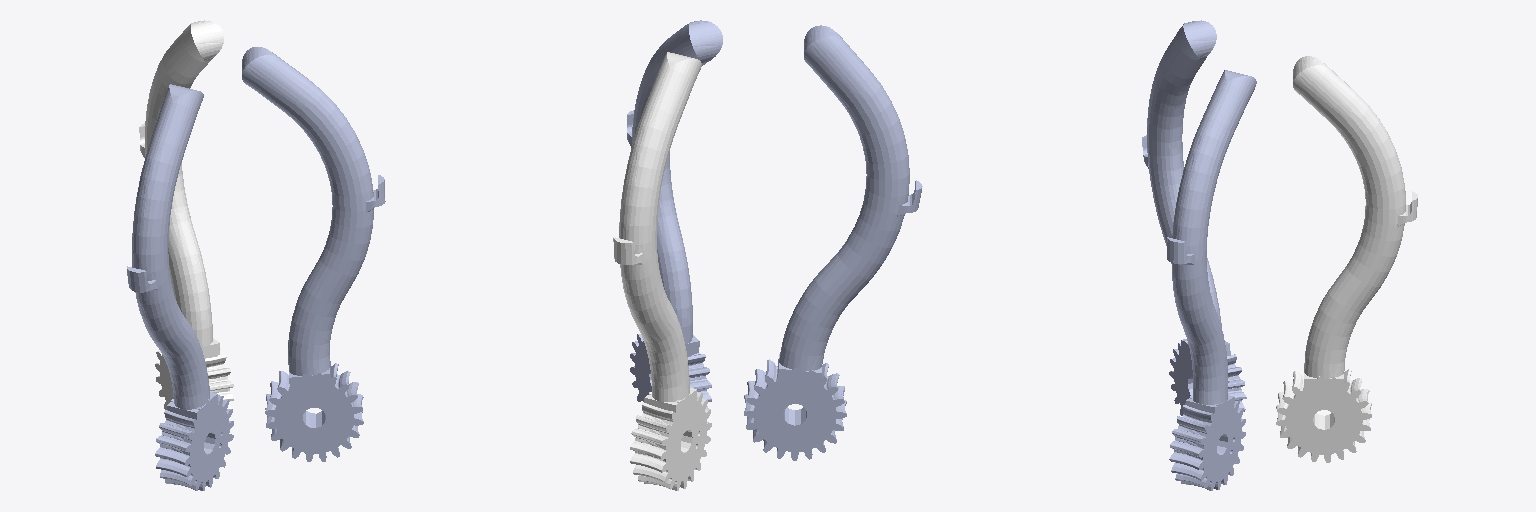
URDF robot description (gripper_v3):
<?xml version="1.0" encoding="utf-8"?>
<!-- This URDF was automatically created by SolidWorks to URDF Exporter! Originally created by [author] ([email redacted]) 
     Commit Version: 1.6.0-4-g7f85cfe  Build Version: 1.6.7995.38578
     For more information, please see http://wiki.ros.org/sw_urdf_exporter -->
<robot
  name="gripper_v3">
  <link
    name="base_link">
    <inertial>
      <origin
        xyz="-0.0069629 -9.5912E-05 -0.25679"
        rpy="0 0 0" />
      <mass
        value="0.19696" />
      <inertia
        ixx="0.00042203"
        ixy="-8.9084E-08"
        ixz="-6.9077E-07"
        iyy="0.00046629"
        iyz="3.9252E-09"
        izz="7.1565E-05" />
    </inertial>
    <visual>
      <origin
        xyz="0 0 0"
        rpy="0 0 0" />
      <geometry>
        <mesh
          filename="package://gripper_v3/meshes/base_link.STL" />
      </geometry>
      <material
        name="">
        <color
          rgba="0.52941 0.54902 0.54902 1" />
      </material>
    </visual>
    <collision>
      <origin
        xyz="0 0 0"
        rpy="0 0 0" />
      <geometry>
        <mesh
          filename="package://gripper_v3/meshes/base_link.STL" />
      </geometry>
    </collision>
  </link>
  <link
    name="finger1">
    <inertial>
      <origin
        xyz="-0.0095169 0.044769 -5.1083E-07"
        rpy="0 0 0" />
      <mass
        value="0.016537" />
      <inertia
        ixx="2.4471E-05"
        ixy="3.7782E-06"
        ixz="1.8867E-10"
        iyy="1.7729E-06"
        iyz="-5.432E-10"
        izz="2.6015E-05" />
    </inertial>
    <visual>
      <origin
        xyz="0 0 0"
        rpy="0 0 0" />
      <geometry>
        <mesh
          filename="package://gripper_v3/meshes/finger1.STL" />
      </geometry>
      <material
        name="">
        <color
          rgba="0.79216 0.81961 0.93333 1" />
      </material>
    </visual>
    <collision>
      <origin
        xyz="0 0 0"
        rpy="0 0 0" />
      <geometry>
        <mesh
          filename="package://gripper_v3/meshes/finger1.STL" />
      </geometry>
    </collision>
  </link>
  <joint
    name="finger1_joint"
    type="revolute">
    <origin
      xyz="-0.019919 -0.0115 -0.07"
      rpy="1.5708 -0.03871 0.5236" />
    <parent
      link="base_link" />
    <child
      link="finger1" />
    <axis
      xyz="0 0 -1" />
    <limit
      lower="-0.3"
      upper="0.3"
      effort="0"
      velocity="0" />
  </joint>
  <link
    name="finger2">
    <inertial>
      <origin
        xyz="-0.0155432656289887 0.0480574320644252 -7.36646345022088E-07"
        rpy="0 0 0" />
      <mass
        value="0.0299559819577234" />
      <inertia
        ixx="3.7693065874301E-05"
        ixy="1.00980563932042E-05"
        ixz="4.54534048154528E-10"
        iyy="5.4924343312225E-06"
        iyz="-8.68791635474864E-10"
        izz="4.27803208583434E-05" />
    </inertial>
    <visual>
      <origin
        xyz="0 0 0"
        rpy="0 0 0" />
      <geometry>
        <mesh
          filename="package://gripper_v3/meshes/finger1.STL" />
      </geometry>
      <material
        name="">
        <color
          rgba="0.792156862745098 0.819607843137255 0.933333333333333 1" />
      </material>
    </visual>
    <collision>
      <origin
        xyz="0 0 0"
        rpy="0 0 0" />
      <geometry>
        <mesh
          filename="package://gripper_v3/meshes/finger1.STL" />
      </geometry>
    </collision>
  </link>
  <joint
    name="finger2_joint"
    type="revolute">
    <origin
      xyz="0.019919 -0.0115 -0.07"
      rpy="1.5708 0.1741 2.618" />
    <parent
      link="base_link" />
    <child
      link="finger2" />
    <axis
      xyz="0 0 -1" />
    <limit
      lower="-0.3"
      upper="0.3"
      effort="0"
      velocity="0" />
    <mimic
      joint="finger1_joint"
      multiplier="1"
      offset="0" />
  </joint>
  <link
    name="finger3">
    <inertial>
      <origin
        xyz="0 0 0"
        rpy="0 0 0" />
      <mass
        value="0" />
      <inertia
        ixx="0"
        ixy="0"
        ixz="0"
        iyy="0"
        iyz="0"
        izz="0" />
    </inertial>
    <visual>
      <origin
        xyz="0 0 0"
        rpy="0 0 0" />
      <geometry>
        <mesh
          filename="package://gripper_v3/meshes/finger1.STL" />
      </geometry>
      <material
        name="">
        <color
          rgba="1 1 1 1" />
      </material>
    </visual>
    <collision>
      <origin
        xyz="0 0 0"
        rpy="0 0 0" />
      <geometry>
        <mesh
          filename="package://gripper_v3/meshes/finger1.STL" />
      </geometry>
    </collision>
  </link>
  <joint
    name="finger3_joint"
    type="revolute">
    <origin
      xyz="0 0.023 -0.07"
      rpy="1.5708 0.067099 -1.5708" />
    <parent
      link="base_link" />
    <child
      link="finger3" />
    <axis
      xyz="0 0 1" />
    <limit
      lower="-0.3"
      upper="0.3"
      effort="0"
      velocity="0" />
    <mimic
      joint="finger1_joint"
      multiplier="-1"
      offset="0" />
  </joint>
</robot>

--- What the picture shows (computed from the rendered views, not written in the file) ---
3 views of the same robot in one strip: view 1: azimuth 30°, elevation 25°; view 2: azimuth 150°, elevation 25°; view 3: azimuth 270°, elevation 25° (orthographic).
Robot: gripper_v3 — 4 links, 3 joints (3 revolute); root link base_link; default pose: all joints at 0.
Links seen in each view (by area): view 1: finger2, finger1, finger3; view 2: finger1, finger3, finger2; view 3: finger3, finger2, finger1.
Boxes of the visible links, bbox=[...] form: finger2: bbox=[242, 47, 385, 461]; finger1: bbox=[127, 84, 233, 490]; finger3: bbox=[139, 20, 233, 409]; finger1: bbox=[744, 25, 922, 460]; finger3: bbox=[613, 52, 711, 490]; finger2: bbox=[627, 20, 722, 408]; finger3: bbox=[1276, 56, 1417, 462]; finger2: bbox=[1167, 70, 1256, 490]; finger1: bbox=[1142, 20, 1246, 418].
Size in the robot's own frame: 0.0891 by 0.0821 by 0.1294 metres.
3 mesh visuals loaded from 2 distinct referenced files (1 binary STL); not drawn: 1 (reference not matched to a file when rendering).